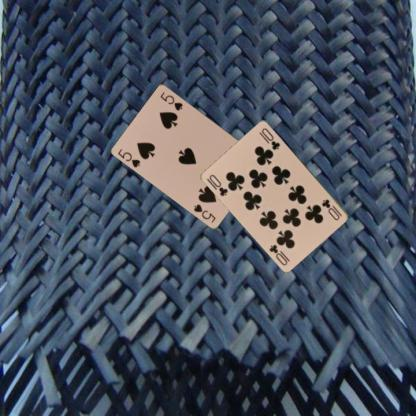10c: (319, 196, 343, 222), (207, 172, 229, 198)
5s: (115, 146, 142, 169)
